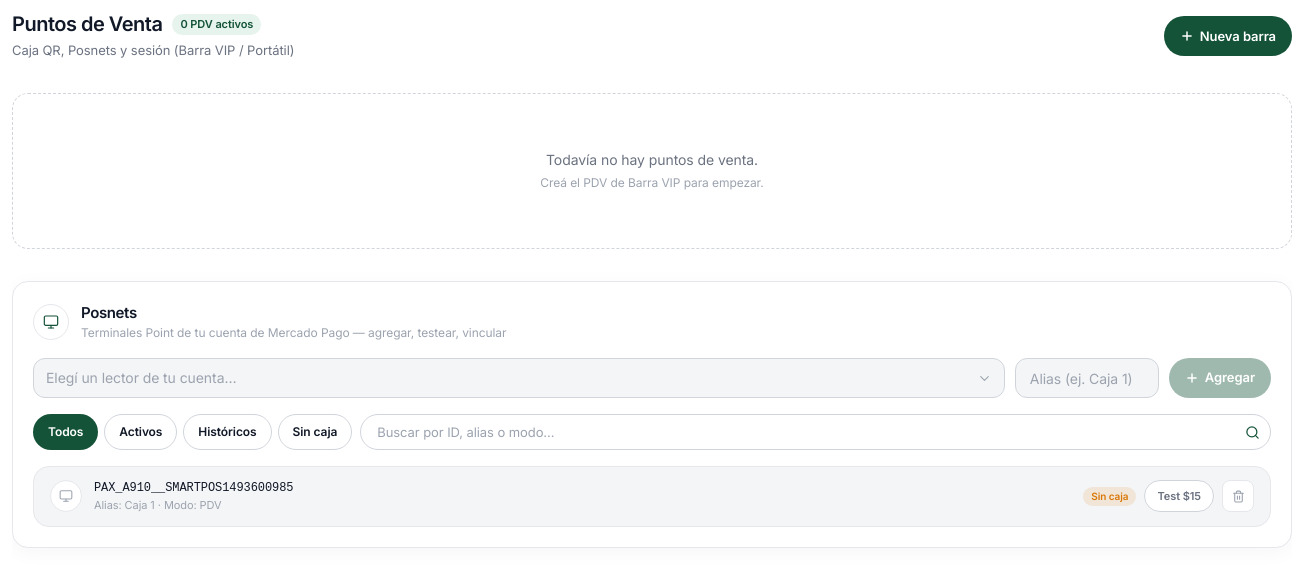
Test case: PdvSection › elimina un Posnet registrado
Step 1. Click the button named "Eliminar Posnet Caja 1" → (1238,496), box [1222,480,1254,512]
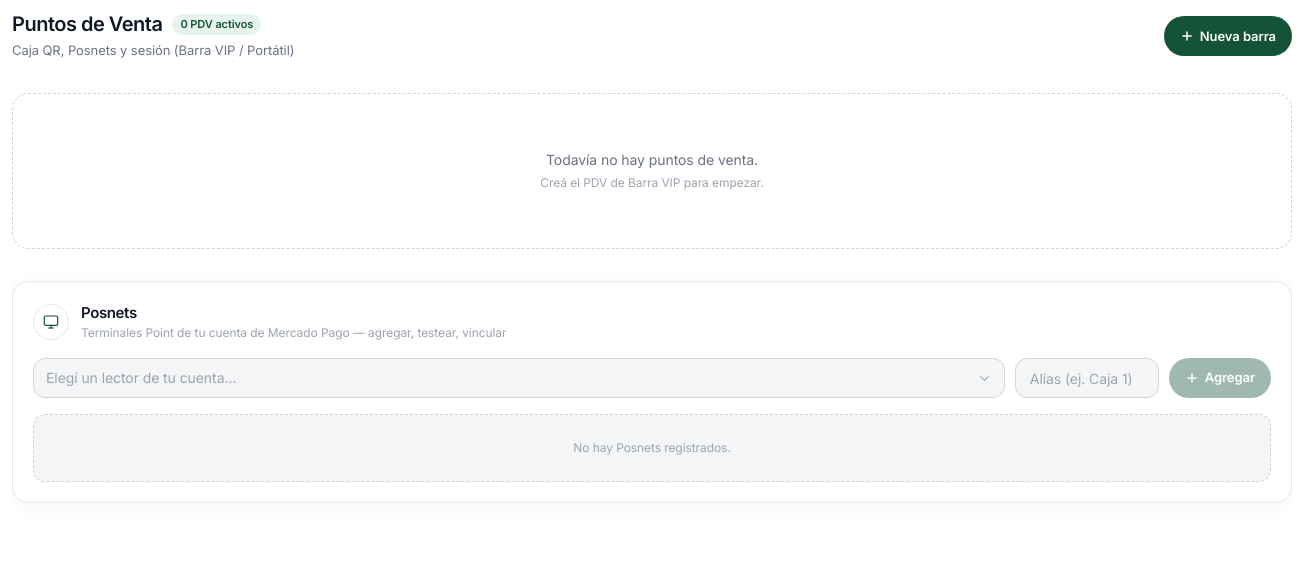
Expected: the text "PAX_A910__SMARTPOS1493600985" is gone
